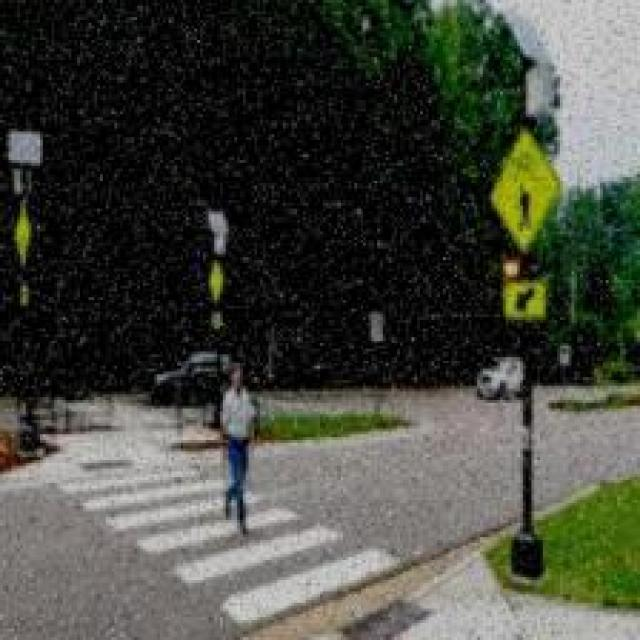walk-crossing: (76, 469, 396, 637)
